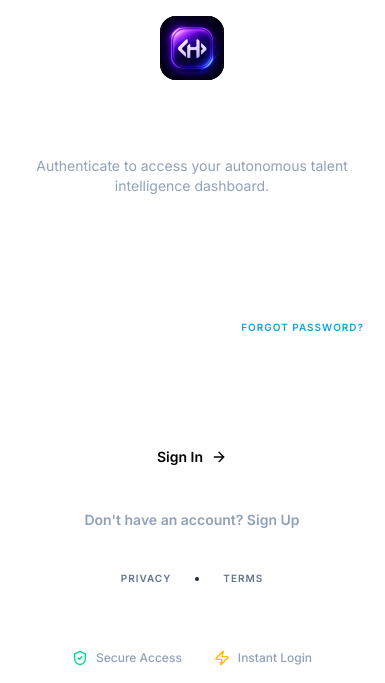
Test case: AuthPage › toggles to sign up mode when link is clicked
// Click 'Sign Up' link
Click the button "Don't have an account? Sign Up" at x=192, y=520, box [84, 510, 300, 530]
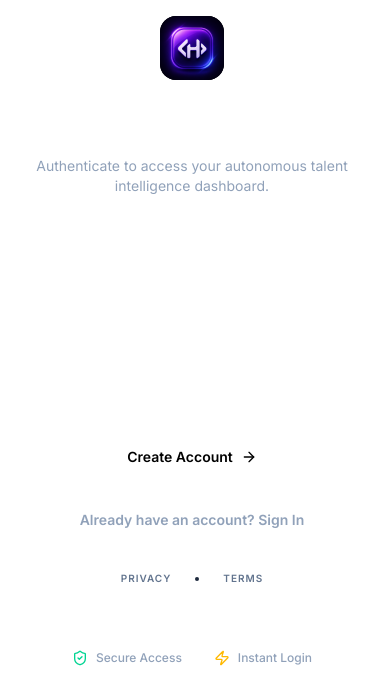
Check: the button "Create Account" is shown, box [16, 431, 368, 483]
